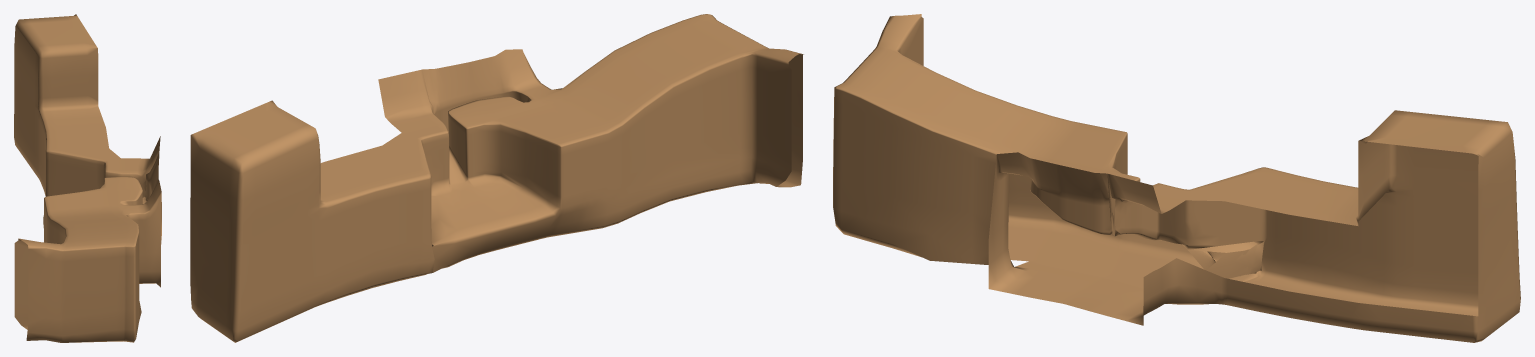
The model's file is terrain_W4A4.fbx.
3 renders of one model, left to right at view 1: azimuth 30°, elevation 25°; view 2: azimuth 150°, elevation 25°; view 3: azimuth 270°, elevation 25°, orthographic. The views are drawn at different scales.
Parts seen in each view (by area): view 1: W4A4_mesh; view 2: W4A4_mesh; view 3: W4A4_mesh.
Boxes of the visible parts, x1,y1,x2,y2 form: W4A4_mesh: (14,14,161,342); W4A4_mesh: (190,14,803,342); W4A4_mesh: (833,14,1520,342).
Bounding box in the file's own units: 18228 × 9174 × 29521.
